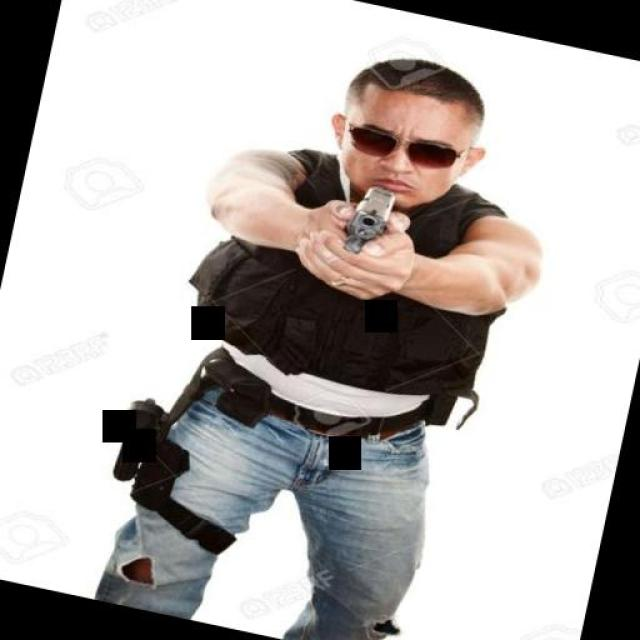gun: (330, 175, 406, 264)
